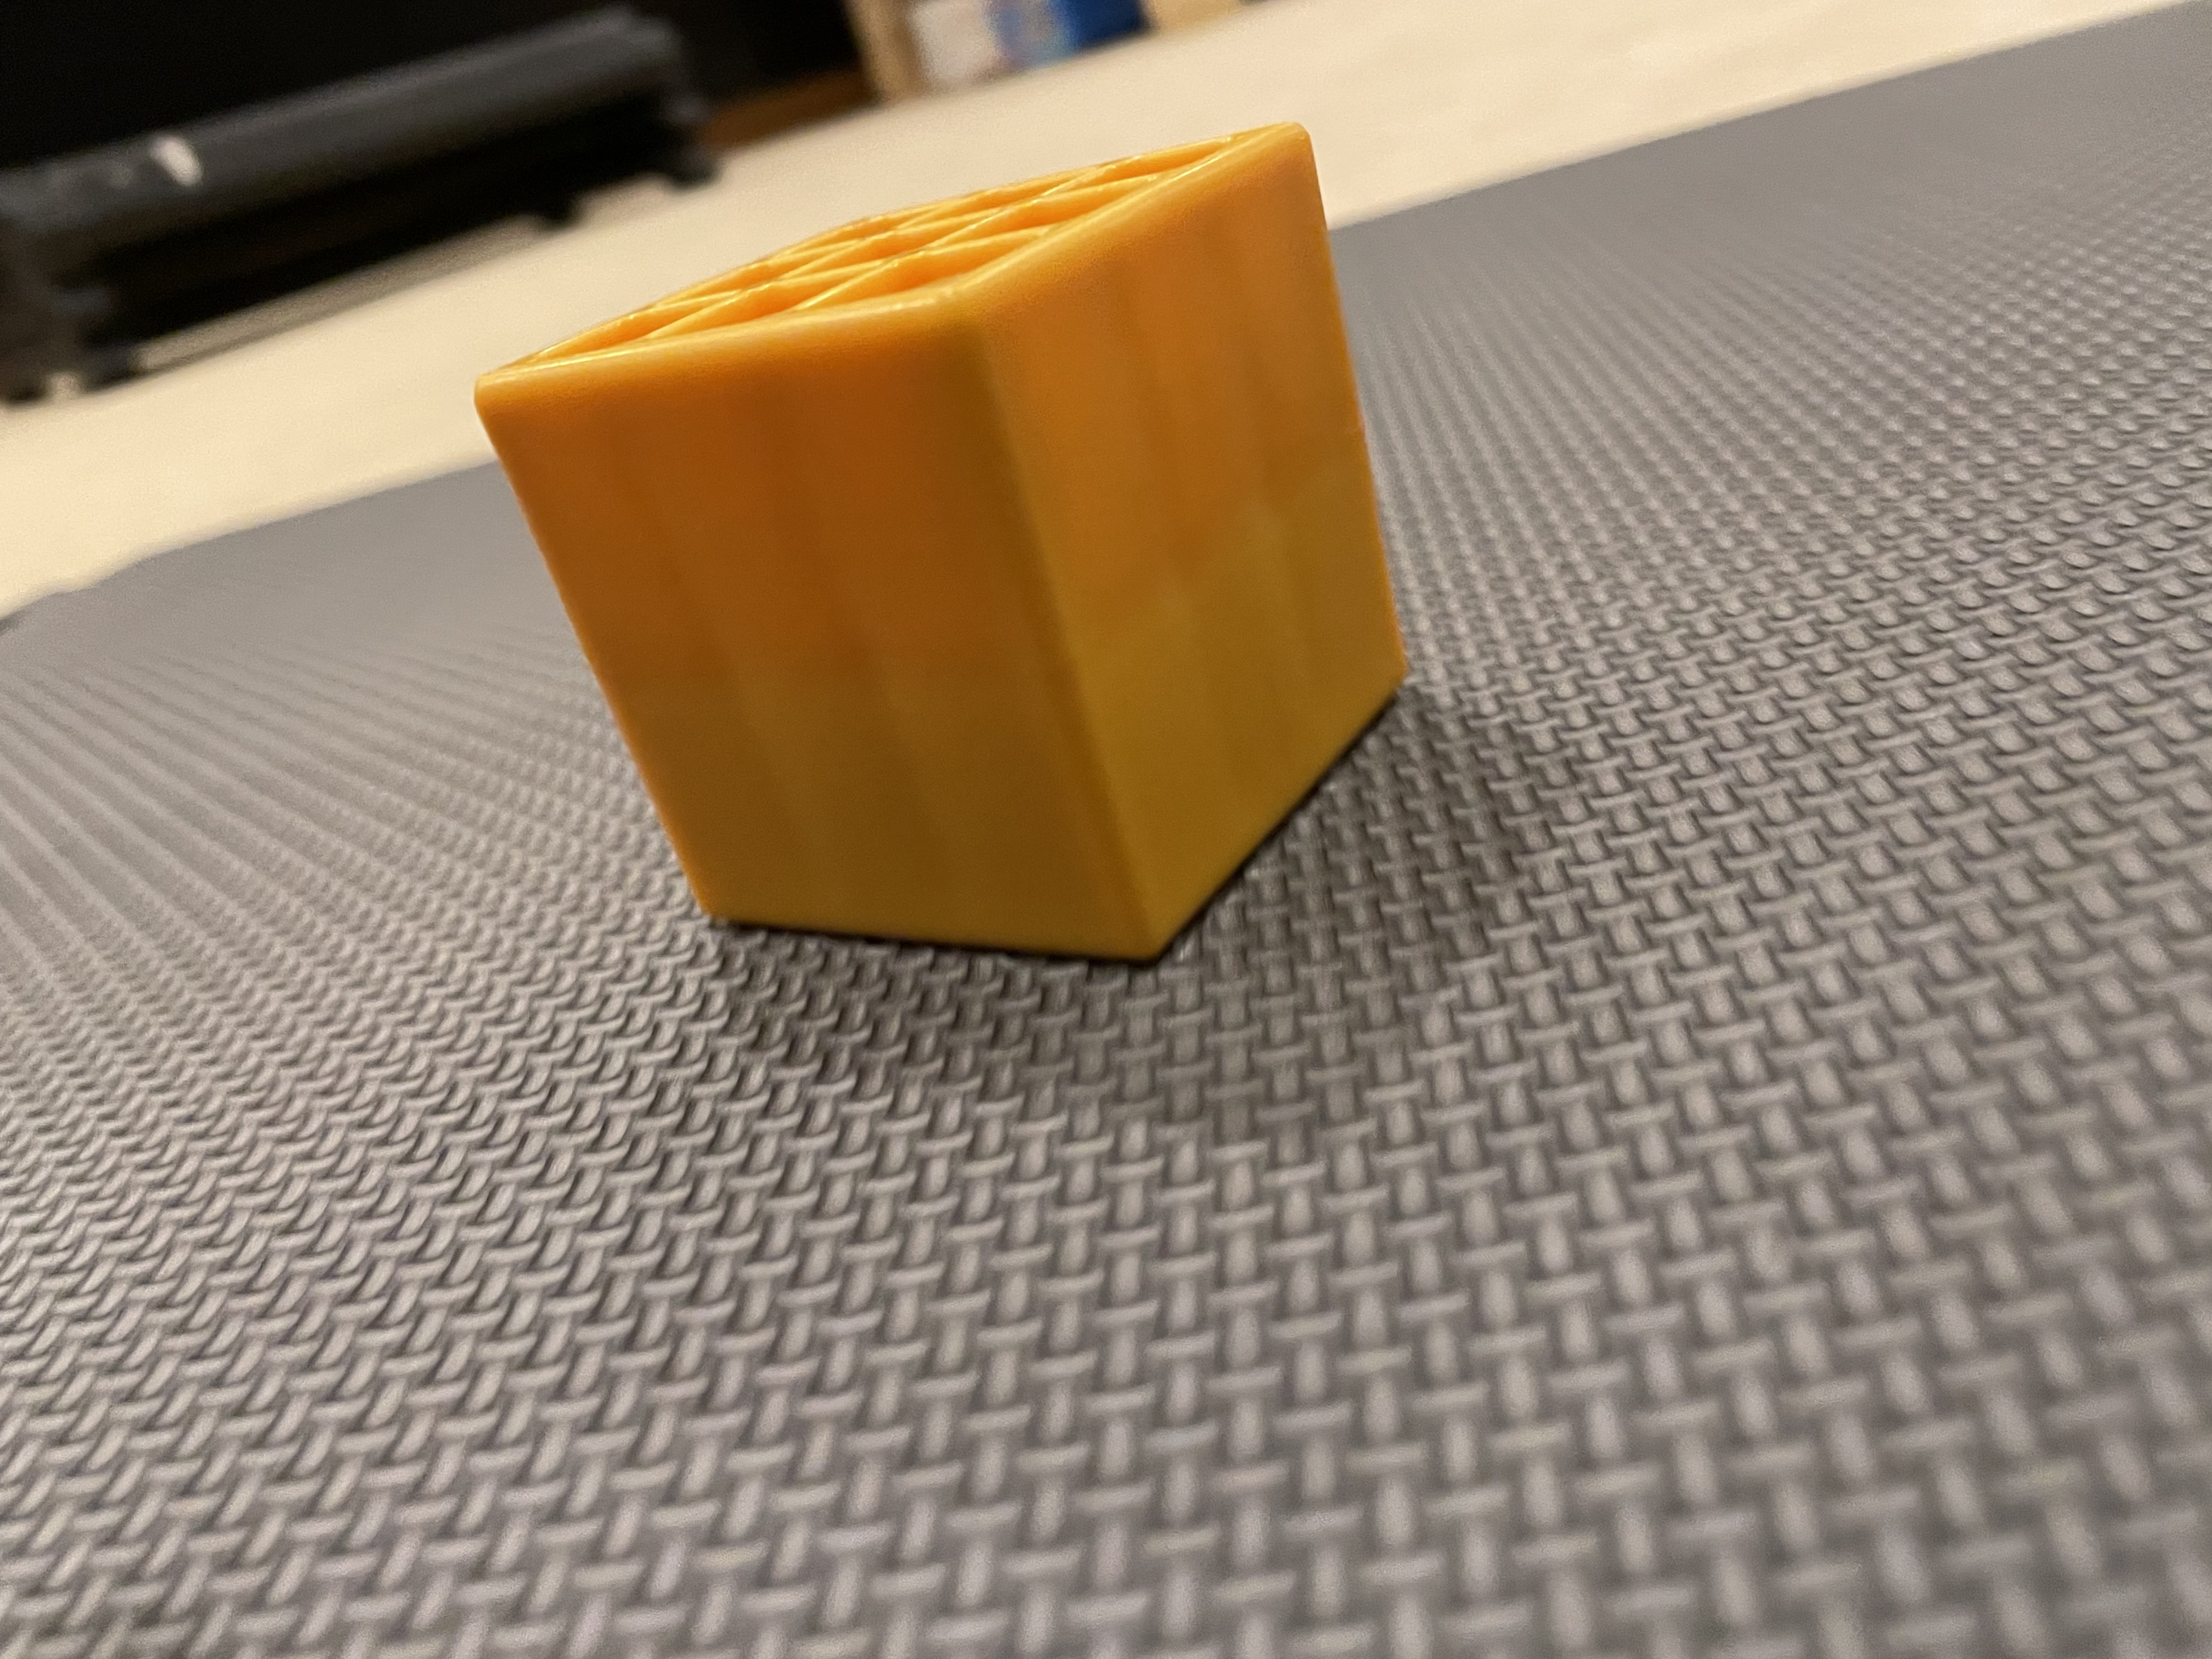cube: (449, 99, 1470, 1053)
